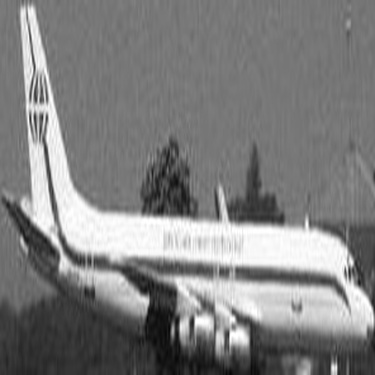airplane: (2, 1, 371, 372)
